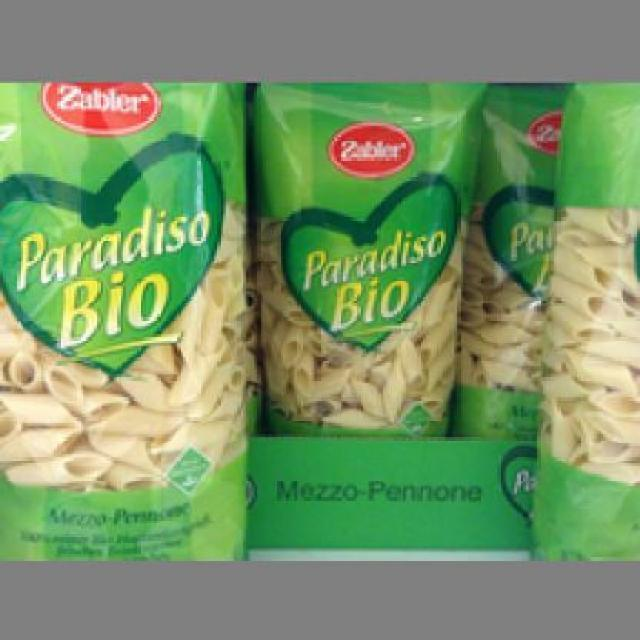Pasta: (0, 79, 249, 555), (248, 82, 486, 432), (534, 82, 637, 558)
